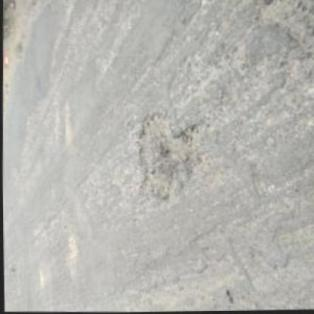Hueco: (132, 108, 208, 200)
